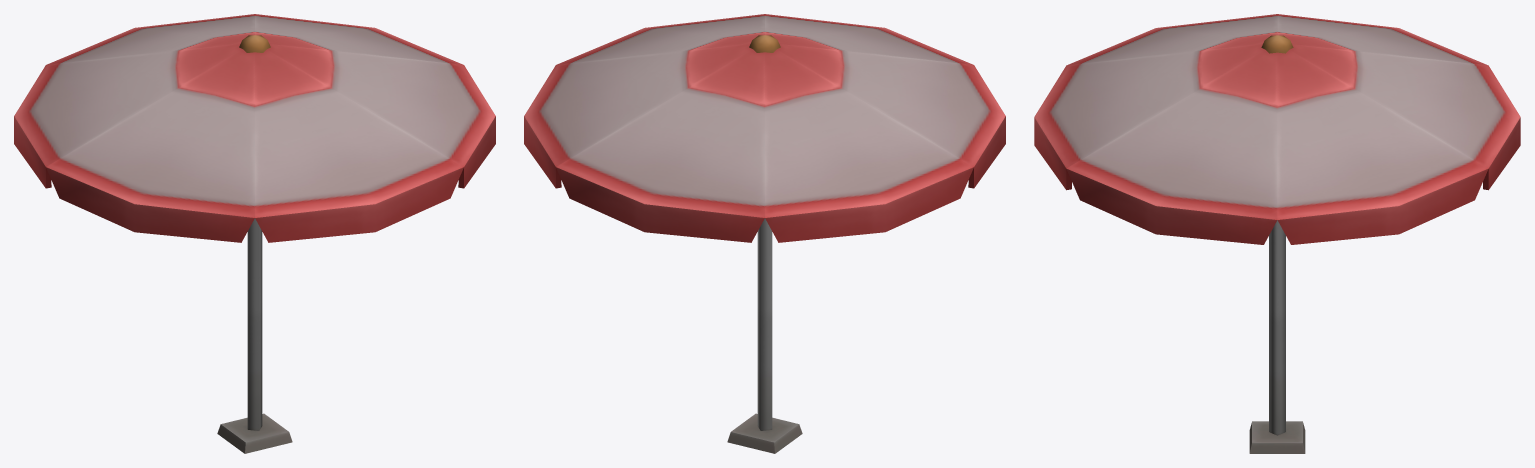
The model's file is Umbrella.FBX.
3 views of the same model, side by side, from view 1: azimuth 30°, elevation 25°; view 2: azimuth 150°, elevation 25°; view 3: azimuth 270°, elevation 25° (orthographic).
Visible parts, largest first — view 1: Umbrella; view 2: Umbrella; view 3: Umbrella.
Part boxes in pixels (box(x1,y1,x2,y2)): Umbrella: box(14, 14, 495, 453); Umbrella: box(524, 14, 1005, 453); Umbrella: box(1034, 14, 1520, 453).
Bounding box in the file's own units: 438 × 403 × 437.
